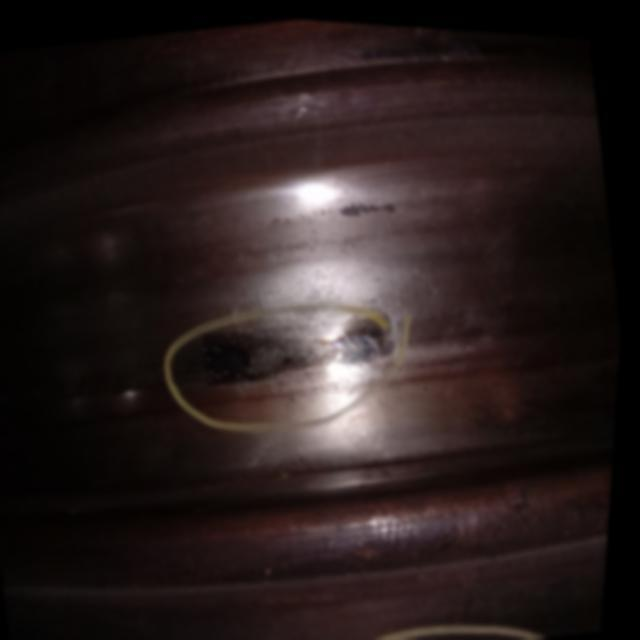Rollerpile: (161, 297, 421, 407)
